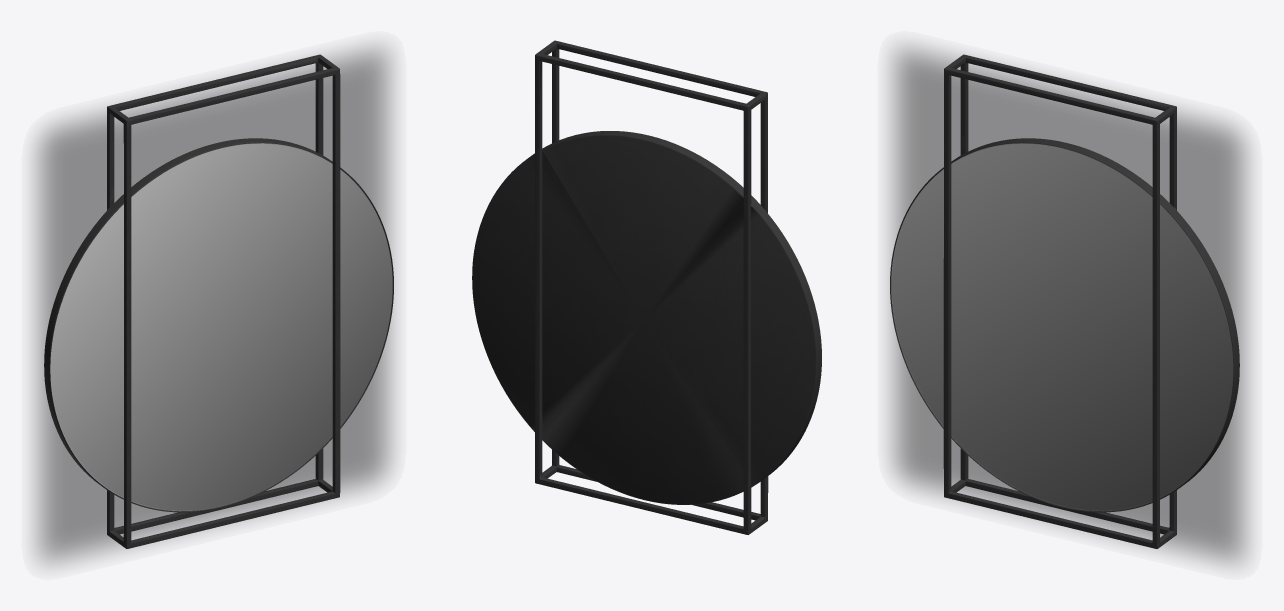
File: abo-b084hv6kdl.284e806d9e.ar.glb
The picture shows the model from 3 angles, left to right: view 1: azimuth 30°, elevation 25°; view 2: azimuth 150°, elevation 25°; view 3: azimuth 330°, elevation 25°; orthographic projection.
Visible parts, largest first — view 1: RootNode, object 2; view 2: RootNode; view 3: RootNode, object 2.
Part boxes in pixels (x1,y1,x2,y2): RootNode: [44, 54, 393, 548]; object 2: [34, 46, 393, 564]; RootNode: [472, 40, 821, 534]; RootNode: [890, 54, 1239, 548]; object 2: [890, 46, 1249, 564].
Bounding box in the file's own units: 0.588 × 0.6832 × 0.0507.
2 materials, 2 textured.
